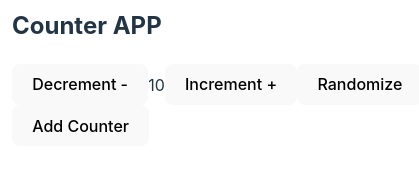
Test: App Component - Stage D › adds a new counter and maintains separate count states for each counter
Expected: the text "10" is shown, x1=148 y1=74 x2=165 y2=94
Click the button "Add Counter": (81, 126) x1=12 y1=105 x2=149 y2=146
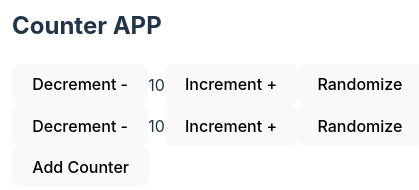
Result: the text "10" is shown 2 times at x1=148 y1=74 x2=165 y2=94; x1=148 y1=116 x2=165 y2=136
Click the 1st button "Increment +": (231, 84) x1=165 y1=64 x2=297 y2=105
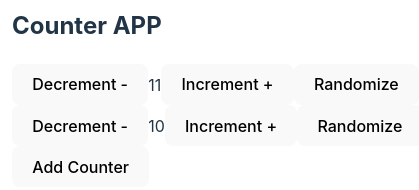
Expected: the text "10" is shown, x1=148 y1=116 x2=165 y2=136
Result: the text "11" is shown at x1=148 y1=74 x2=161 y2=94
Click the button "Decrement -" next to "11": (80, 84) x1=12 y1=64 x2=148 y2=105
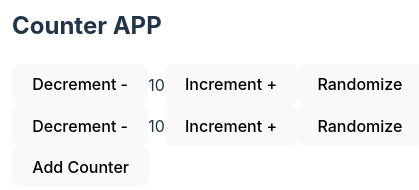
Result: the 2nd text "10" is shown at x1=148 y1=116 x2=165 y2=136
Result: the 1st text "10" is shown at x1=148 y1=74 x2=165 y2=94
Click the 2nd button "Increment +": (231, 126) x1=165 y1=105 x2=297 y2=146
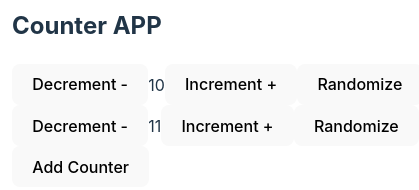
Result: the text "10" is shown at x1=148 y1=74 x2=165 y2=94
Result: the text "11" is shown at x1=148 y1=116 x2=161 y2=136
Click the button "Decrement -" next to "11": (80, 126) x1=12 y1=105 x2=148 y2=146
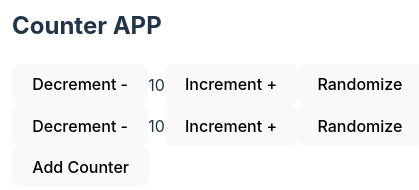
Result: the 1st text "10" is shown at x1=148 y1=74 x2=165 y2=94
Result: the 2nd text "10" is shown at x1=148 y1=116 x2=165 y2=136
